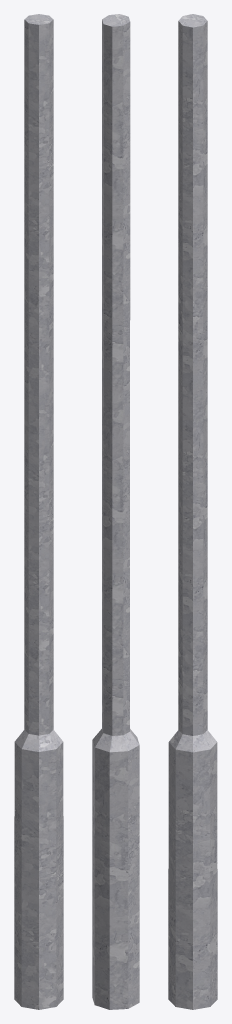
Rendered from Pre_Stand.fbx.
The picture shows the model from 3 angles, left to right: view 1: azimuth 90°, elevation 25°; view 2: azimuth 210°, elevation 25°; view 3: azimuth 270°, elevation 25°; orthographic projection.
Parts seen in each view (by area): view 1: Component_1_1; view 2: Component_1_1; view 3: Component_1_1.
Part boxes in pixels (<box>): Component_1_1: <box>14,14,63,1009</box>; Component_1_1: <box>92,14,139,1009</box>; Component_1_1: <box>168,14,217,1009</box>.
Size of the model in its own units: 6.32 by 139 by 6.32.
